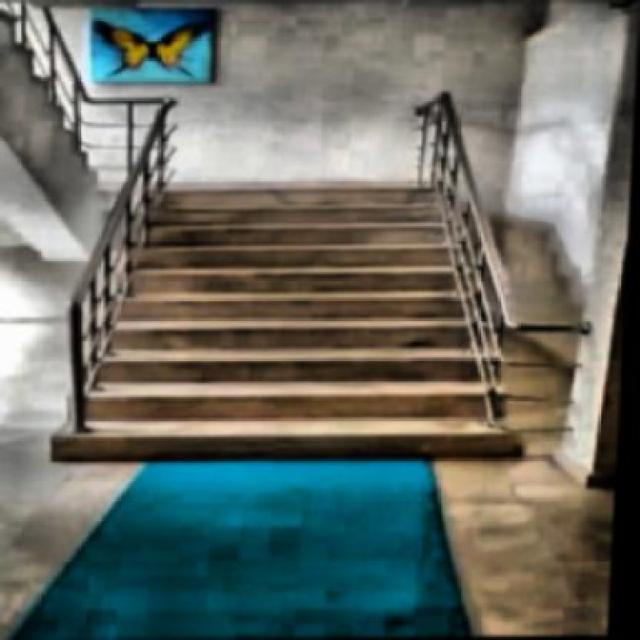stair: (68, 182, 544, 464)
